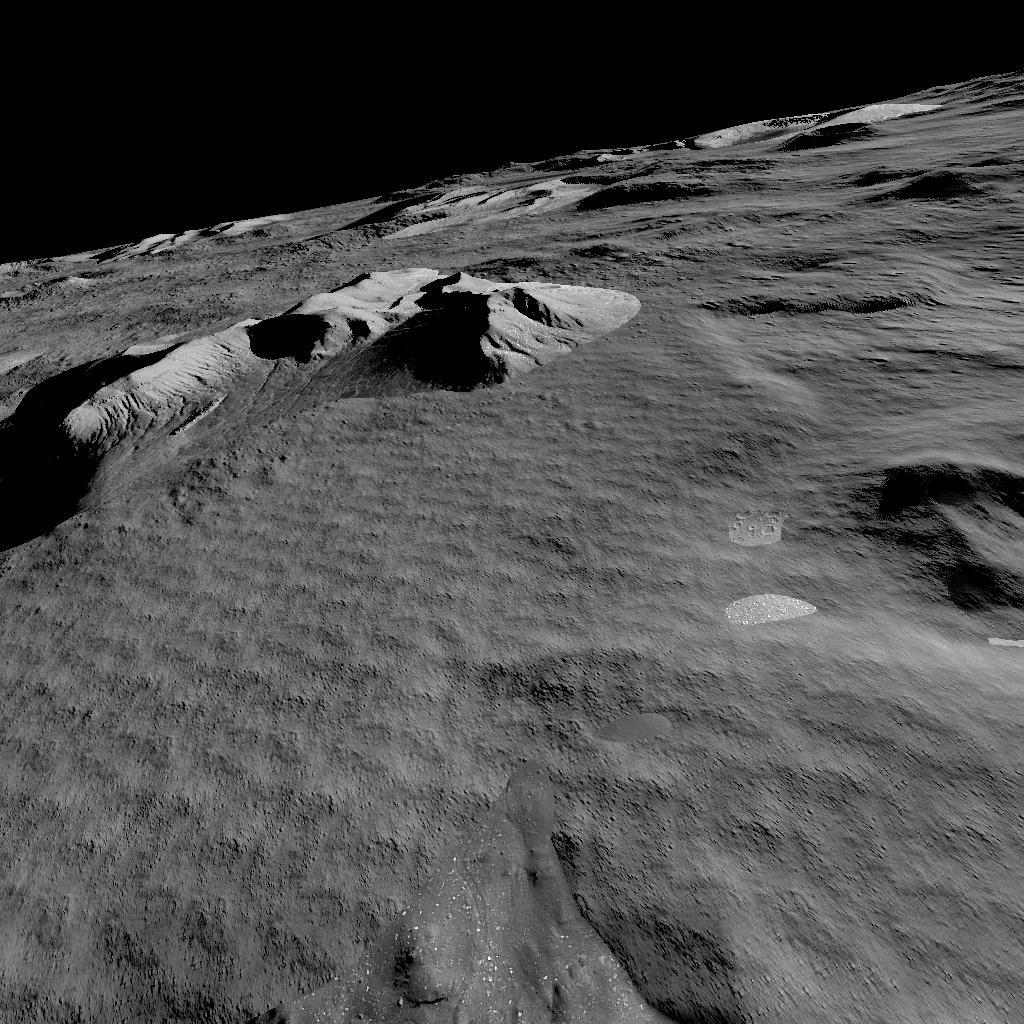Boulders: (4, 268, 650, 512), (337, 56, 1013, 238), (94, 204, 286, 253)
Crater: (5, 889, 1024, 1024), (864, 450, 1024, 638), (698, 270, 942, 328)
Plan surface: (0, 546, 852, 848)
